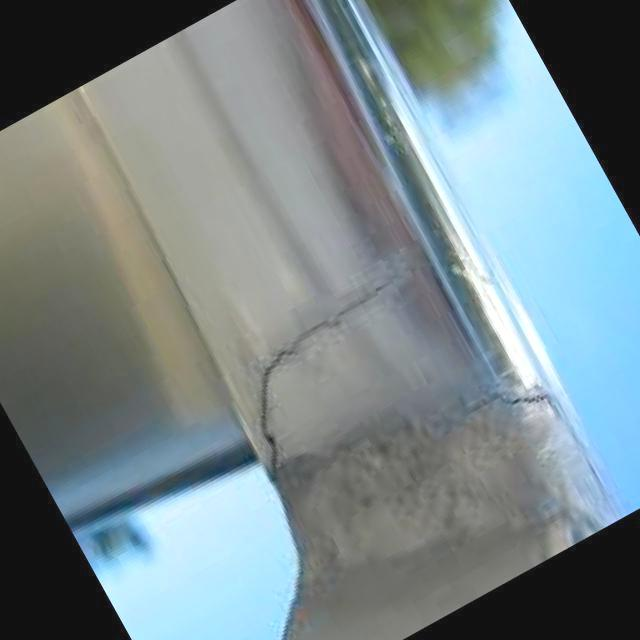defect: (251, 263, 407, 493), (448, 390, 569, 427)
